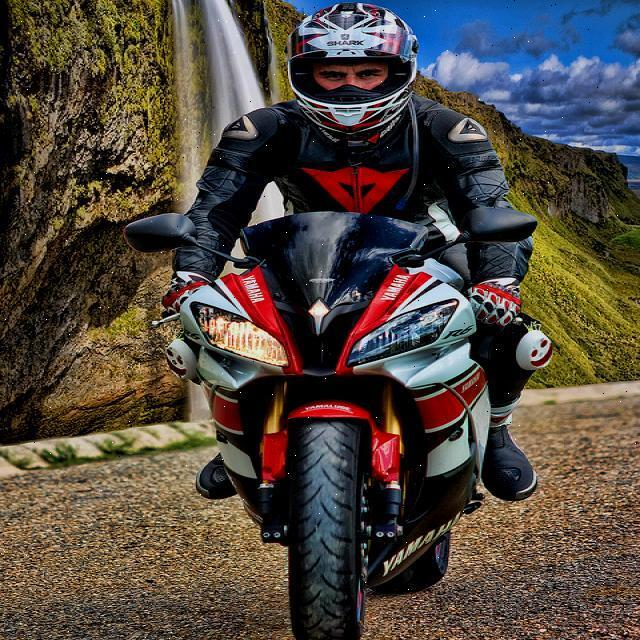motorcycle: (137, 172, 536, 640)
